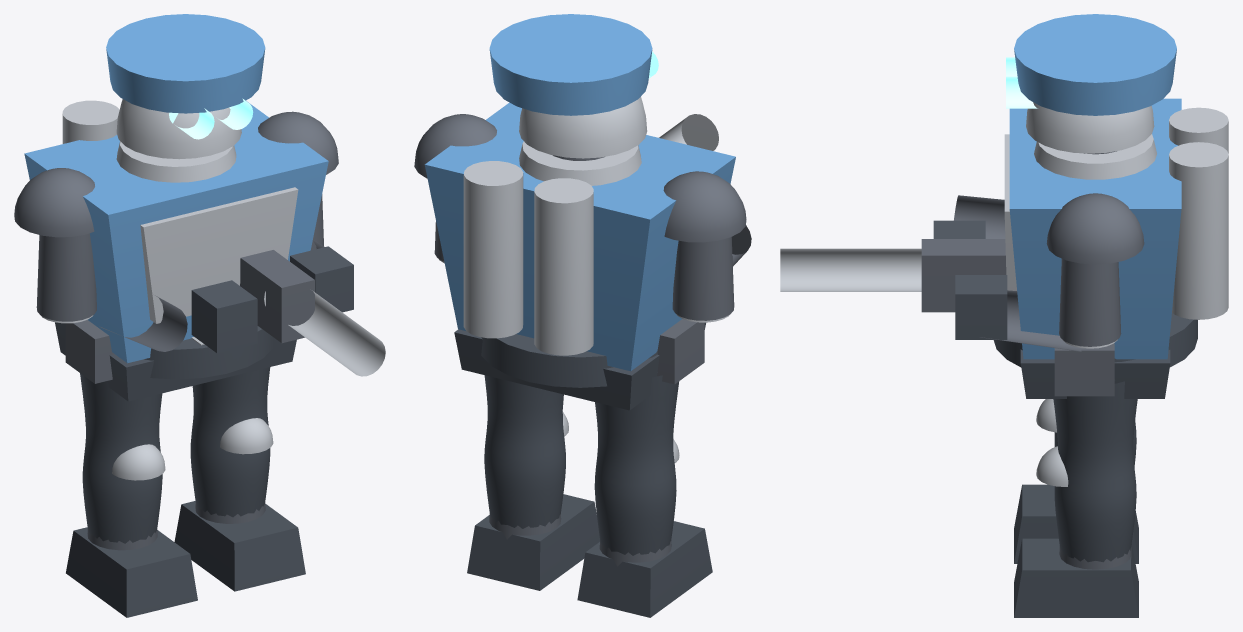
File: ccomand.glb
The picture shows the model from 3 angles, left to right: view 1: azimuth 30°, elevation 25°; view 2: azimuth 150°, elevation 25°; view 3: azimuth 270°, elevation 25°; orthographic projection. The views are drawn at different scales.
Visible parts, largest first — view 1: Hull; view 2: Hull; view 3: Hull.
Boxes of the visible parts, box(x1,y1,x2,y2) form: Hull: box(14, 14, 385, 617); Hull: box(414, 14, 751, 617); Hull: box(780, 14, 1228, 617).
Size of the model in its own units: 0.6454 by 1.02 by 0.7837.
